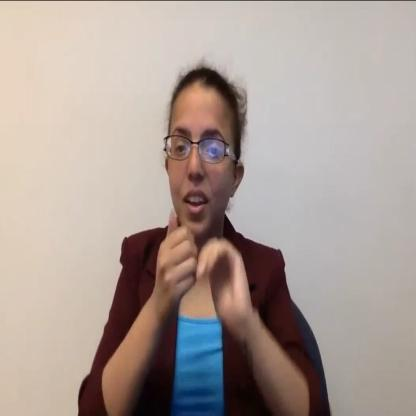HowAreYou: (152, 215, 254, 350)
